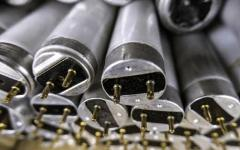lightbulb: (1, 1, 239, 150), (32, 1, 117, 97), (100, 1, 168, 106)
